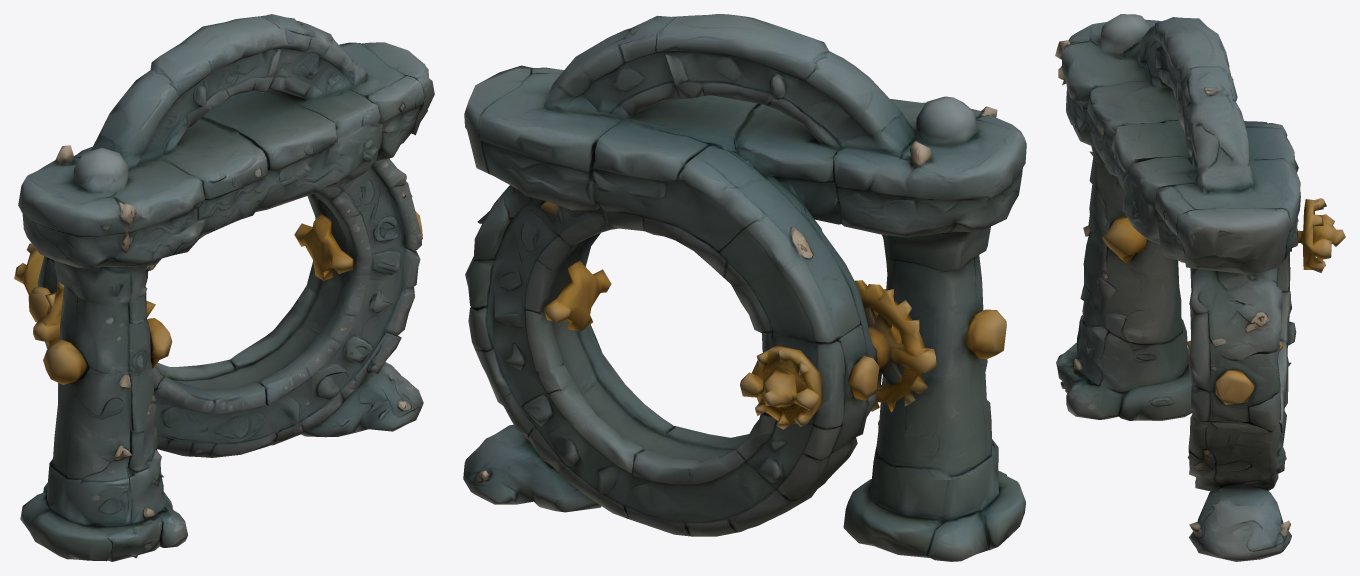
File: tide-gate.glb
The picture shows the model from 3 angles, left to right: view 1: azimuth 30°, elevation 25°; view 2: azimuth 150°, elevation 25°; view 3: azimuth 270°, elevation 25°; orthographic projection. The views are drawn at different scales.
Parts seen in each view (by area): view 1: tripo_node_af8dacdd-bc76-40e1-8b67-eb2e236bbc9b; view 2: tripo_node_af8dacdd-bc76-40e1-8b67-eb2e236bbc9b; view 3: tripo_node_af8dacdd-bc76-40e1-8b67-eb2e236bbc9b.
Part boxes in pixels (x1=…): tripo_node_af8dacdd-bc76-40e1-8b67-eb2e236bbc9b: x1=14, y1=14, x2=434, y2=561; tripo_node_af8dacdd-bc76-40e1-8b67-eb2e236bbc9b: x1=463, y1=14, x2=1026, y2=561; tripo_node_af8dacdd-bc76-40e1-8b67-eb2e236bbc9b: x1=1055, y1=14, x2=1345, y2=561.
Size of the model in its own units: 6.26 by 6 by 3.68.
Materials: 1 (1 with a texture image).
